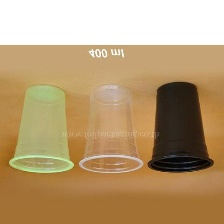glass: (6, 81, 75, 175)
